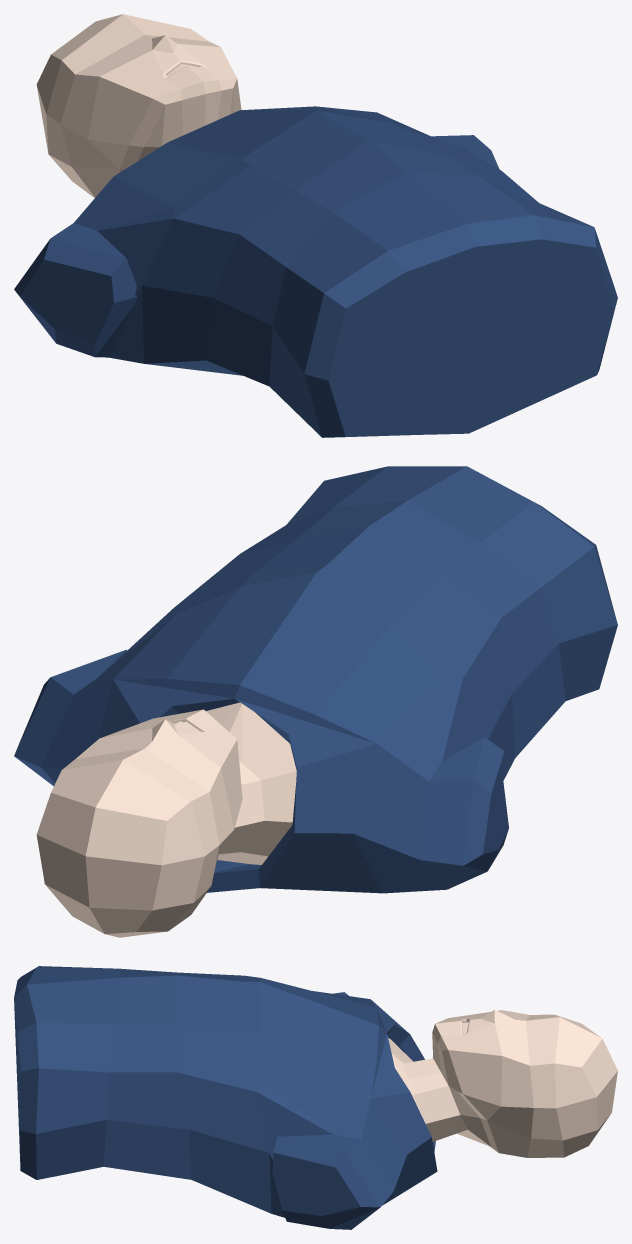
3 views of the same model, one above another, from view 1: azimuth 30°, elevation 25°; view 2: azimuth 150°, elevation 25°; view 3: azimuth 270°, elevation 25° (orthographic). The views are drawn at different scales.
Visible parts, largest first — view 1: Tshirt, Dummy; view 2: Tshirt, Dummy; view 3: Tshirt, Dummy.
Part boxes in pixels (bbox=[...]): Tshirt: bbox=[14, 106, 617, 437]; Dummy: bbox=[36, 14, 241, 197]; Tshirt: bbox=[14, 466, 617, 893]; Dummy: bbox=[36, 702, 296, 937]; Tshirt: bbox=[14, 966, 437, 1229]; Dummy: bbox=[388, 1009, 617, 1157].
Size of the model in its own units: 137 by 76.64 by 200.
